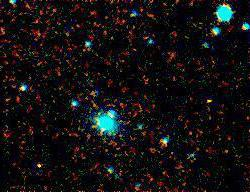star: (195, 82, 225, 112)
